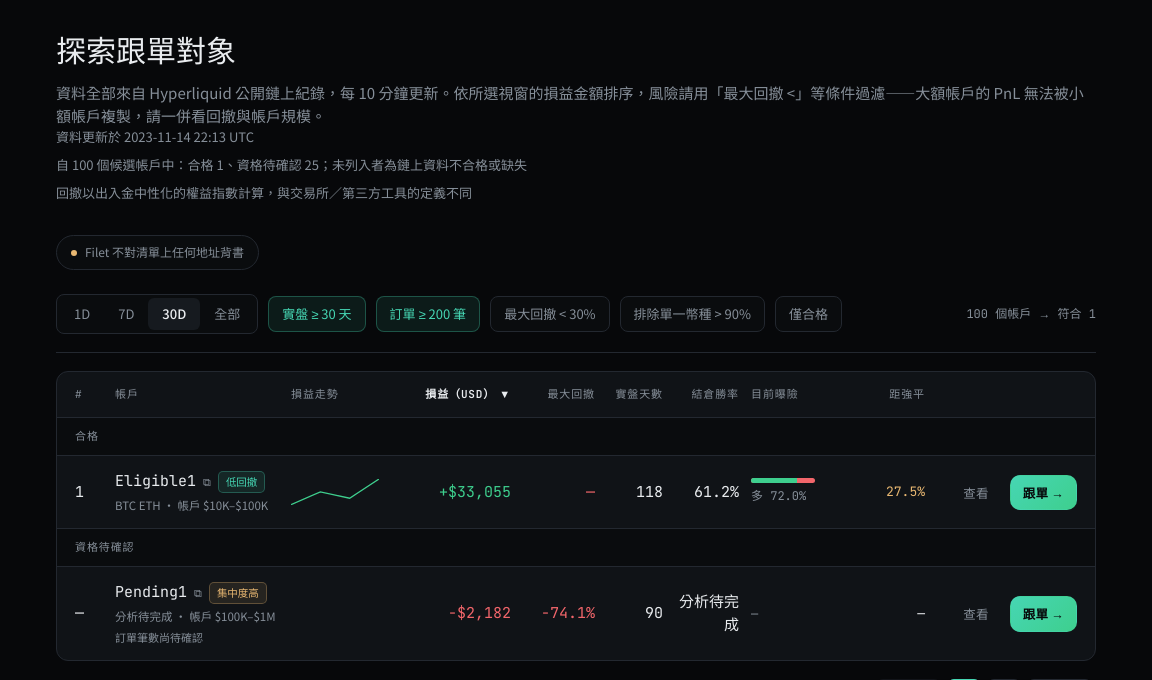
Scenario: ExplorePage — Task 6.8 總數／頁數／pool note 用合格＋待確認 › 僅合格開啟 → 總數只算 total_qualified，不加 total_pending
Expected: the link "Eligible1" is shown, [115,470,196,494]
Click the button "僅合格" at {"x": 808, "y": 314}, box [775,296,842,332]
(page scrolled)
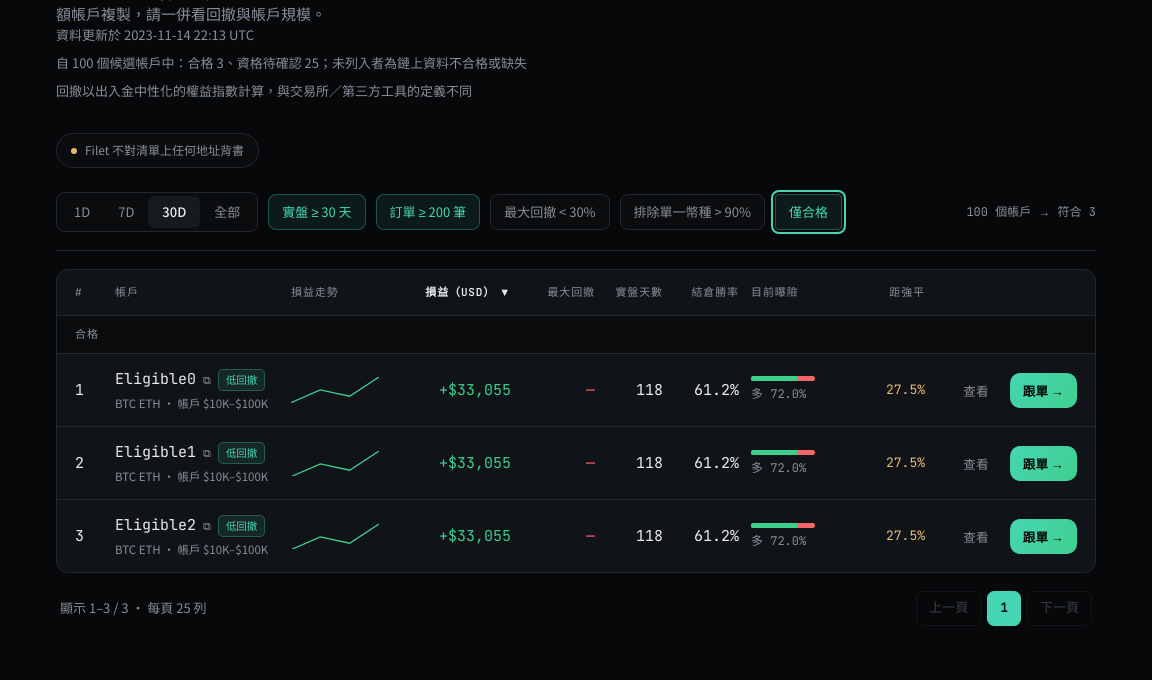
Now the link "Eligible0" is shown, box [115,368,196,392]
